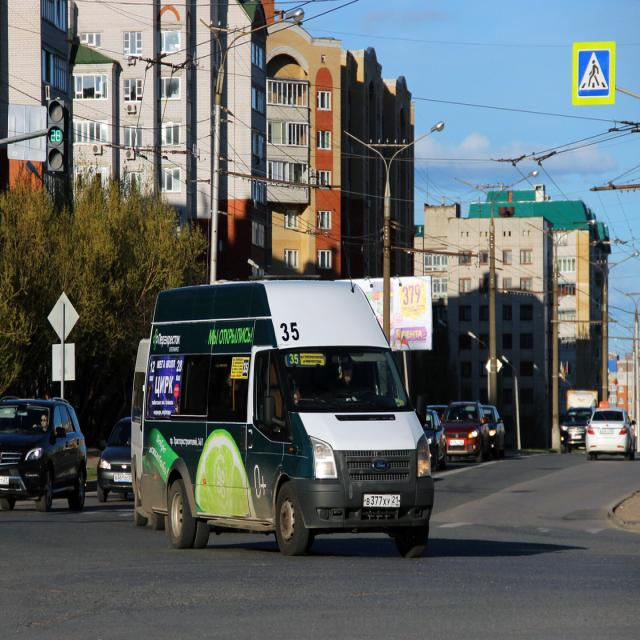number-of-bus: (279, 321, 304, 346), (289, 352, 301, 366)
